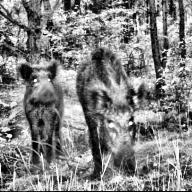boar: (78, 52, 145, 182), (21, 58, 66, 171)
